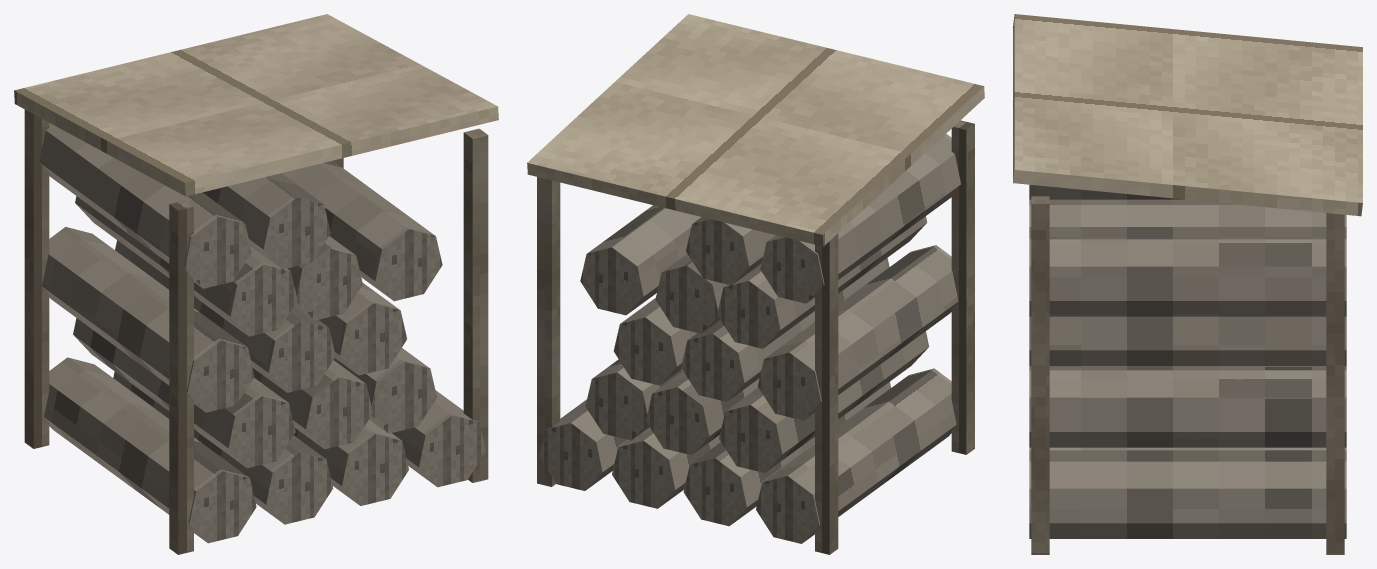
Rendered from firewood_stack.glb.
3 renders of one model, left to right at view 1: azimuth 30°, elevation 25°; view 2: azimuth 150°, elevation 25°; view 3: azimuth 270°, elevation 25°, orthographic. The views are drawn at different scales.
Parts seen in each view (by area): view 1: body; view 2: body; view 3: body.
Part boxes in pixels (<box>): body: <box>14,14,498,554</box>; body: <box>527,14,984,554</box>; body: <box>1013,14,1362,554</box>.
Bounding box in the file's own units: 1 × 1.15 × 0.949.
3 materials, 3 textured.
